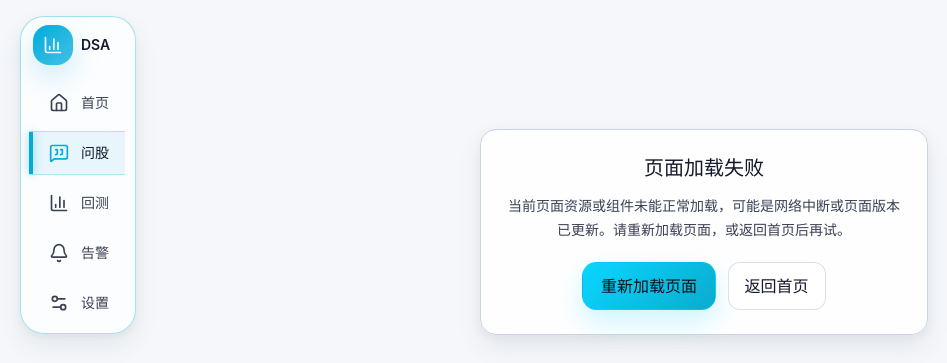
Test case: RouteOutletBoundary › catches rejected lazy route imports inside the shell and resets on navigation
Expected: the navigation bar named "主导航" is shown, [29,81,125,325]
Expected: the heading "页面加载失败" is shown, [644,156,764,180]
Step 1. Click the link "回测" → (79, 203), box [49,193,109,213]
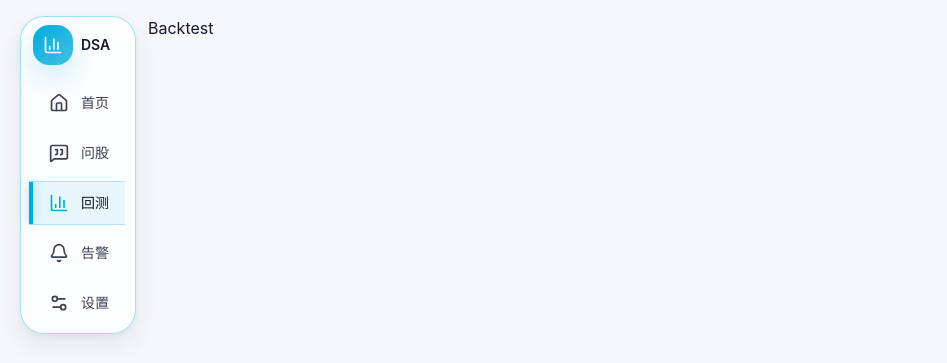
Result: the text "Backtest" is shown at [148,18,214,38]
Result: the heading "页面加载失败" is gone
